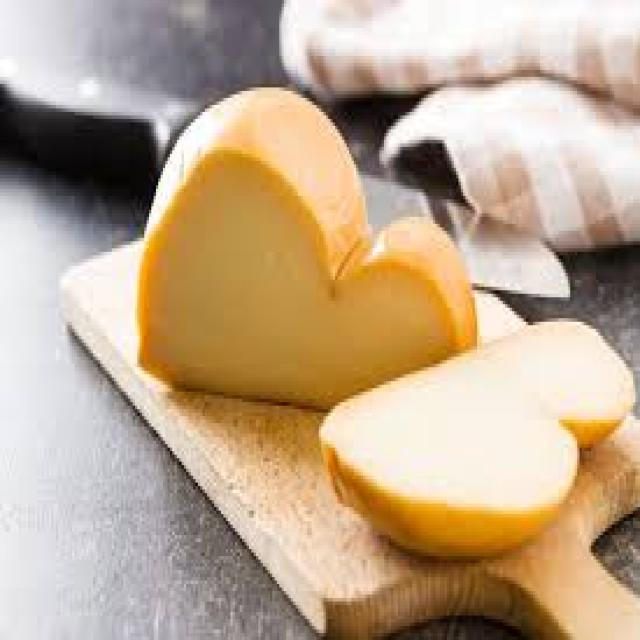cheese: (133, 84, 481, 395), (314, 312, 640, 554)
